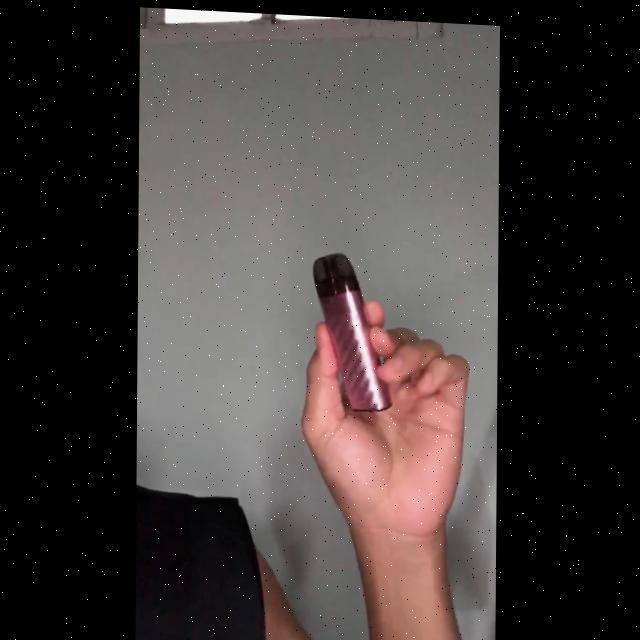vape: (313, 248, 395, 409)
